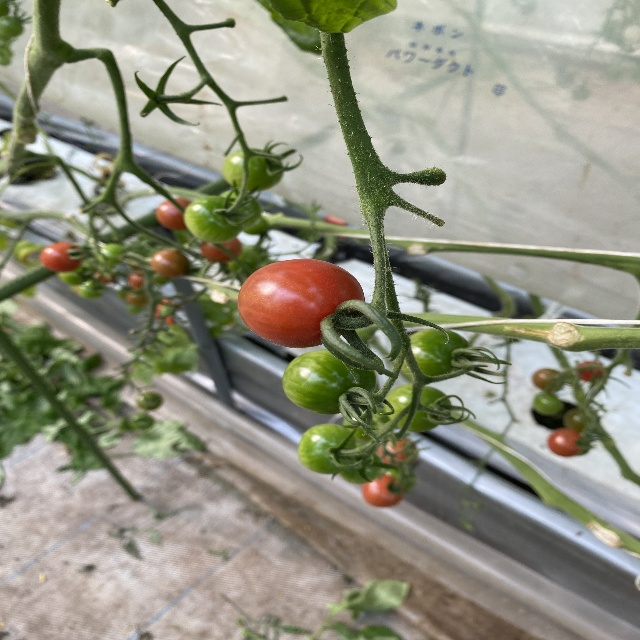l_fully_ripened: (238, 259, 364, 347), (41, 241, 82, 271), (363, 476, 401, 508)
l_green: (281, 349, 379, 415), (397, 328, 470, 379), (383, 384, 452, 432), (299, 423, 356, 475), (184, 196, 245, 242), (223, 148, 286, 191)
l_half_ripened: (150, 249, 189, 276)
